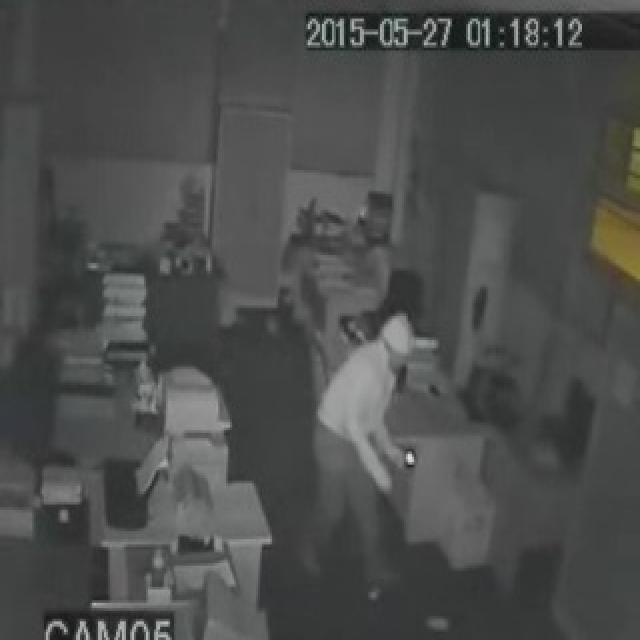thief: (343, 306, 424, 445)
